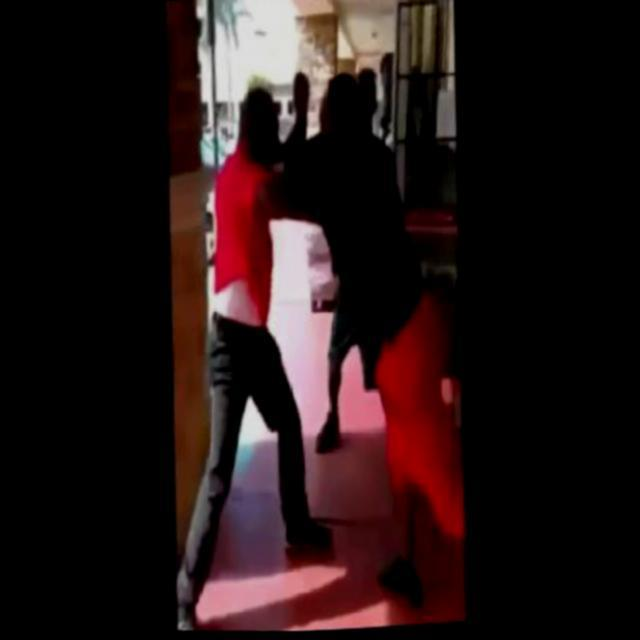fight: (188, 60, 471, 562)
